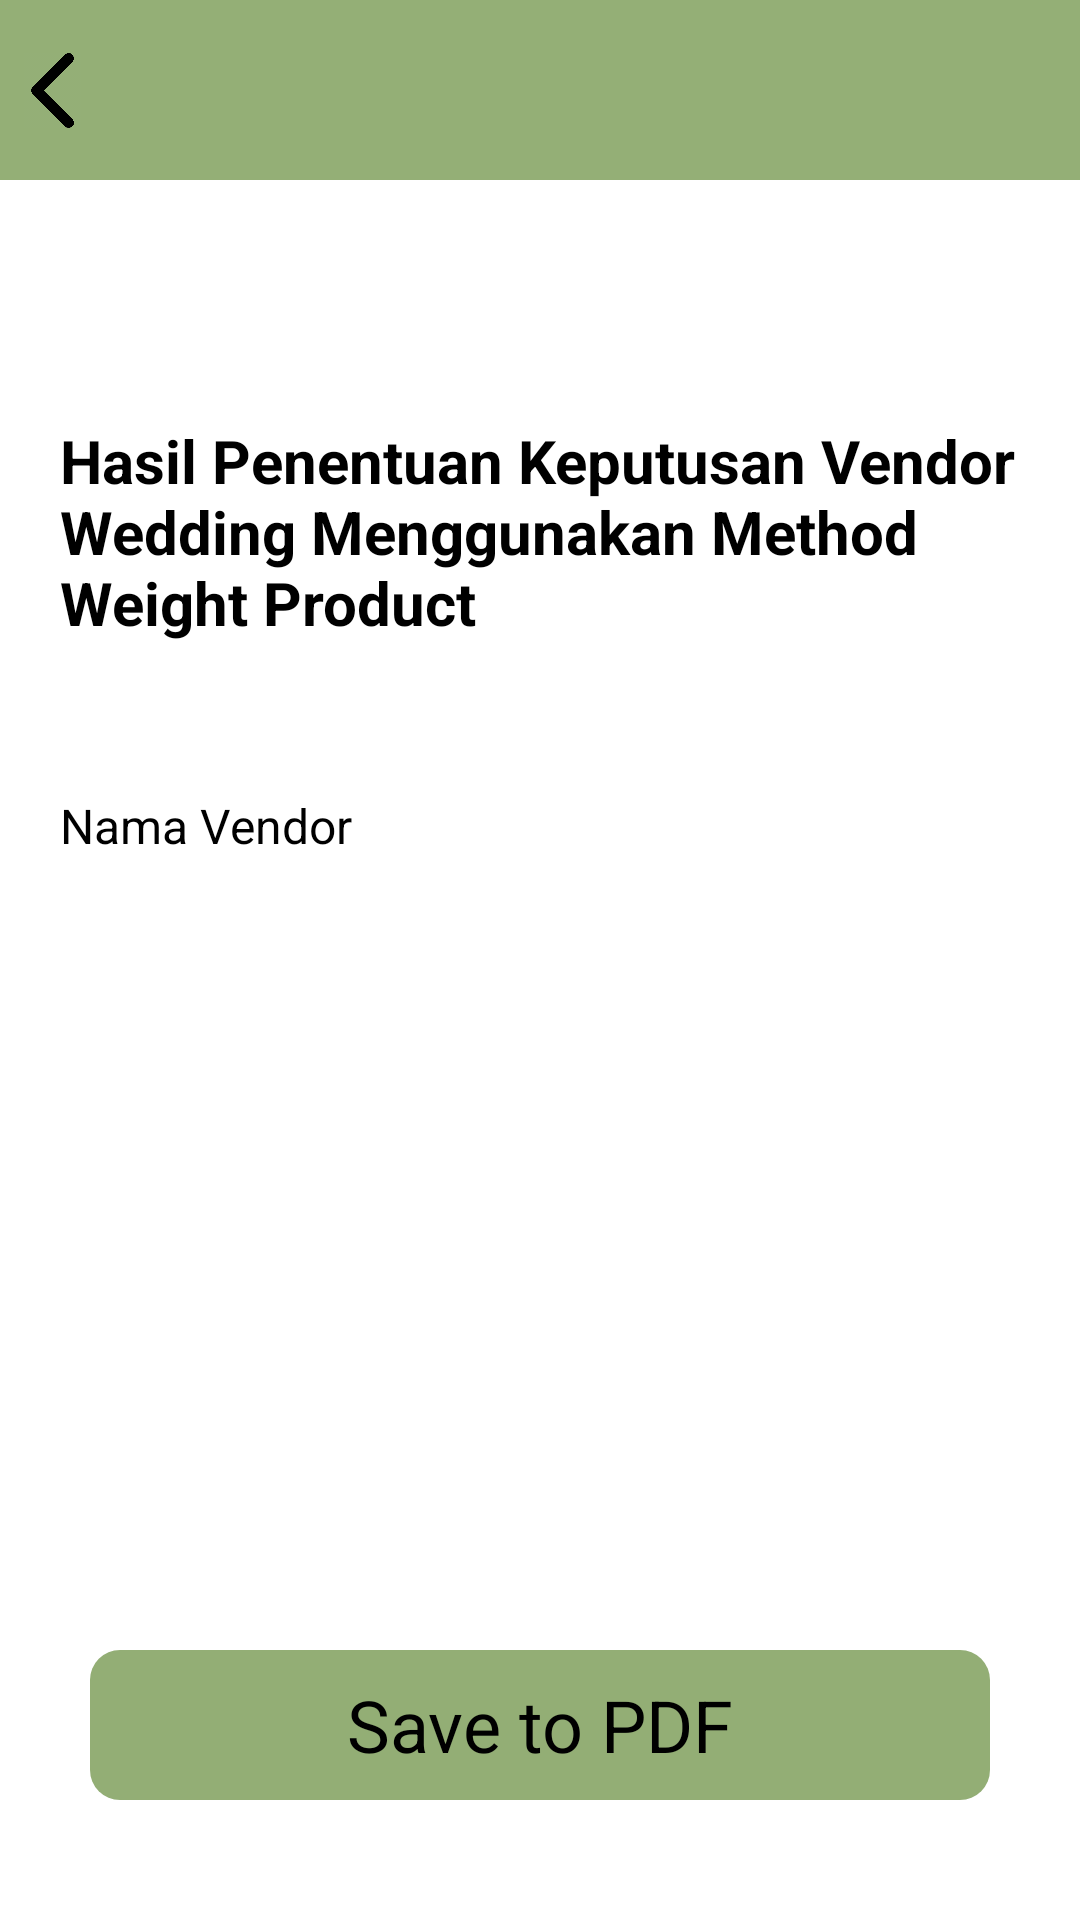

Screen size 1080x1920. Icon name, then its box in pixels as (x1, y1, x2, y2):
arrow back: (31, 53, 74, 128)
